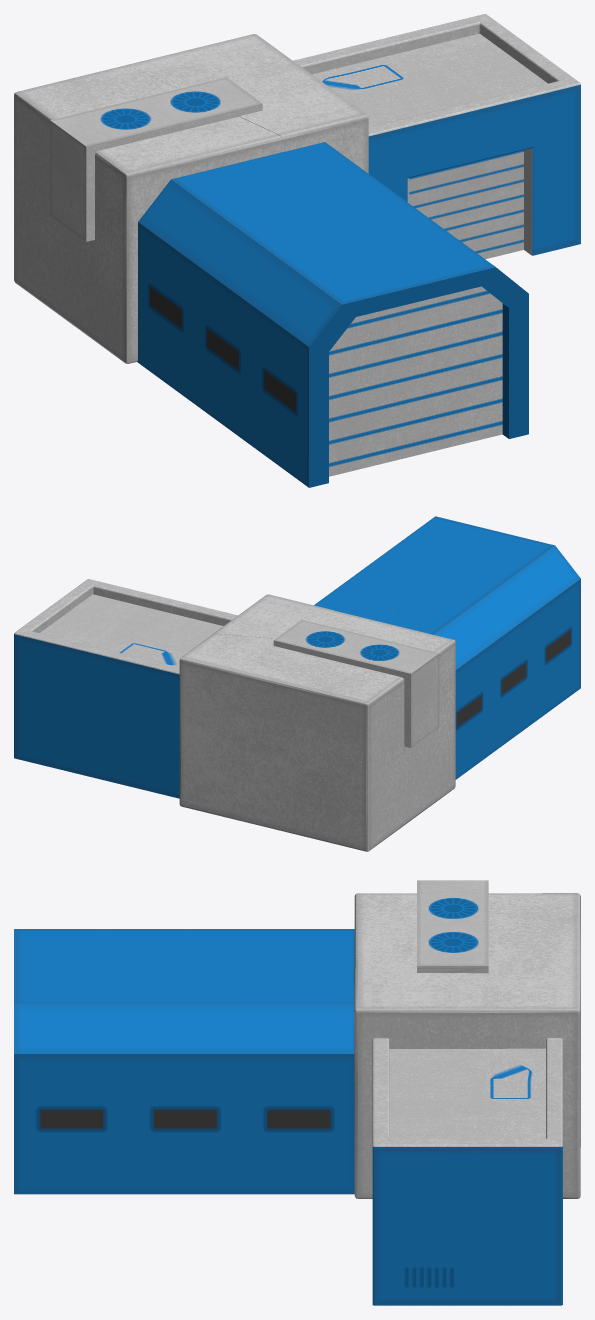
File: Base 3 Cut.fbx
The picture shows the model from 3 angles, top to bottom: view 1: azimuth 30°, elevation 25°; view 2: azimuth 150°, elevation 25°; view 3: azimuth 270°, elevation 25°; orthographic projection. The views are drawn at different scales.
Parts seen in each view (by area): view 1: Cut_6, Cut_3, Cut_4, Cut_21, Cut_5, Cut_9, Cut_12, Cut_13, Cut_17, Cut_18, Cut_11, Cut_1 (+6 smaller); view 2: Cut_13, Cut_18, Cut_6, Cut_16, Cut_4, Cut_10, Cut_9, Cut_3, Cut_7, Cut_19, Cut_21, Cut_14 (+7 smaller); view 3: Cut_2, Cut_19, Cut_6, Cut_1, Cut_17, Cut_5, Cut_16, Cut_9, Cut_4, Cut_13, Cut_21, Cut_18 (+6 smaller).
Boxes of the visible parts, x1,y1,x2,y2 form: Cut_6: [202, 203, 528, 476]; Cut_3: [260, 271, 469, 487]; Cut_4: [137, 170, 342, 409]; Cut_21: [363, 75, 506, 259]; Cut_5: [482, 54, 580, 256]; Cut_9: [50, 77, 262, 241]; Cut_12: [95, 116, 285, 243]; Cut_13: [14, 65, 178, 235]; Cut_17: [239, 64, 368, 173]; Cut_18: [344, 22, 481, 92]; Cut_11: [75, 239, 137, 363]; Cut_1: [209, 142, 383, 203]; Cut_13: [260, 653, 418, 807]; Cut_18: [39, 622, 171, 790]; Cut_6: [393, 516, 568, 748]; Cut_16: [179, 633, 302, 784]; Cut_4: [393, 584, 513, 779]; Cut_10: [252, 736, 427, 851]; Cut_9: [273, 620, 439, 747]; Cut_3: [456, 521, 580, 696]; Cut_7: [125, 649, 185, 798]; Cut_19: [14, 601, 96, 765]; Cut_21: [98, 593, 228, 648]; Cut_14: [179, 767, 259, 823]; Cut_2: [62, 980, 298, 1194]; Cut_19: [399, 1128, 562, 1305]; Cut_6: [14, 929, 219, 1194]; Cut_1: [220, 947, 354, 1194]; Cut_17: [354, 961, 506, 1089]; Cut_5: [372, 1109, 459, 1305]; Cut_16: [467, 947, 580, 1148]; Cut_9: [417, 880, 488, 973]; Cut_4: [186, 929, 354, 979]; Cut_13: [403, 893, 580, 954]; Cut_21: [372, 1057, 482, 1128]; Cut_18: [460, 1074, 562, 1137].
Bounding box in the file's own units: 67.75 × 27.16 × 70.66.
Materials: 1 (1 with a texture image).
